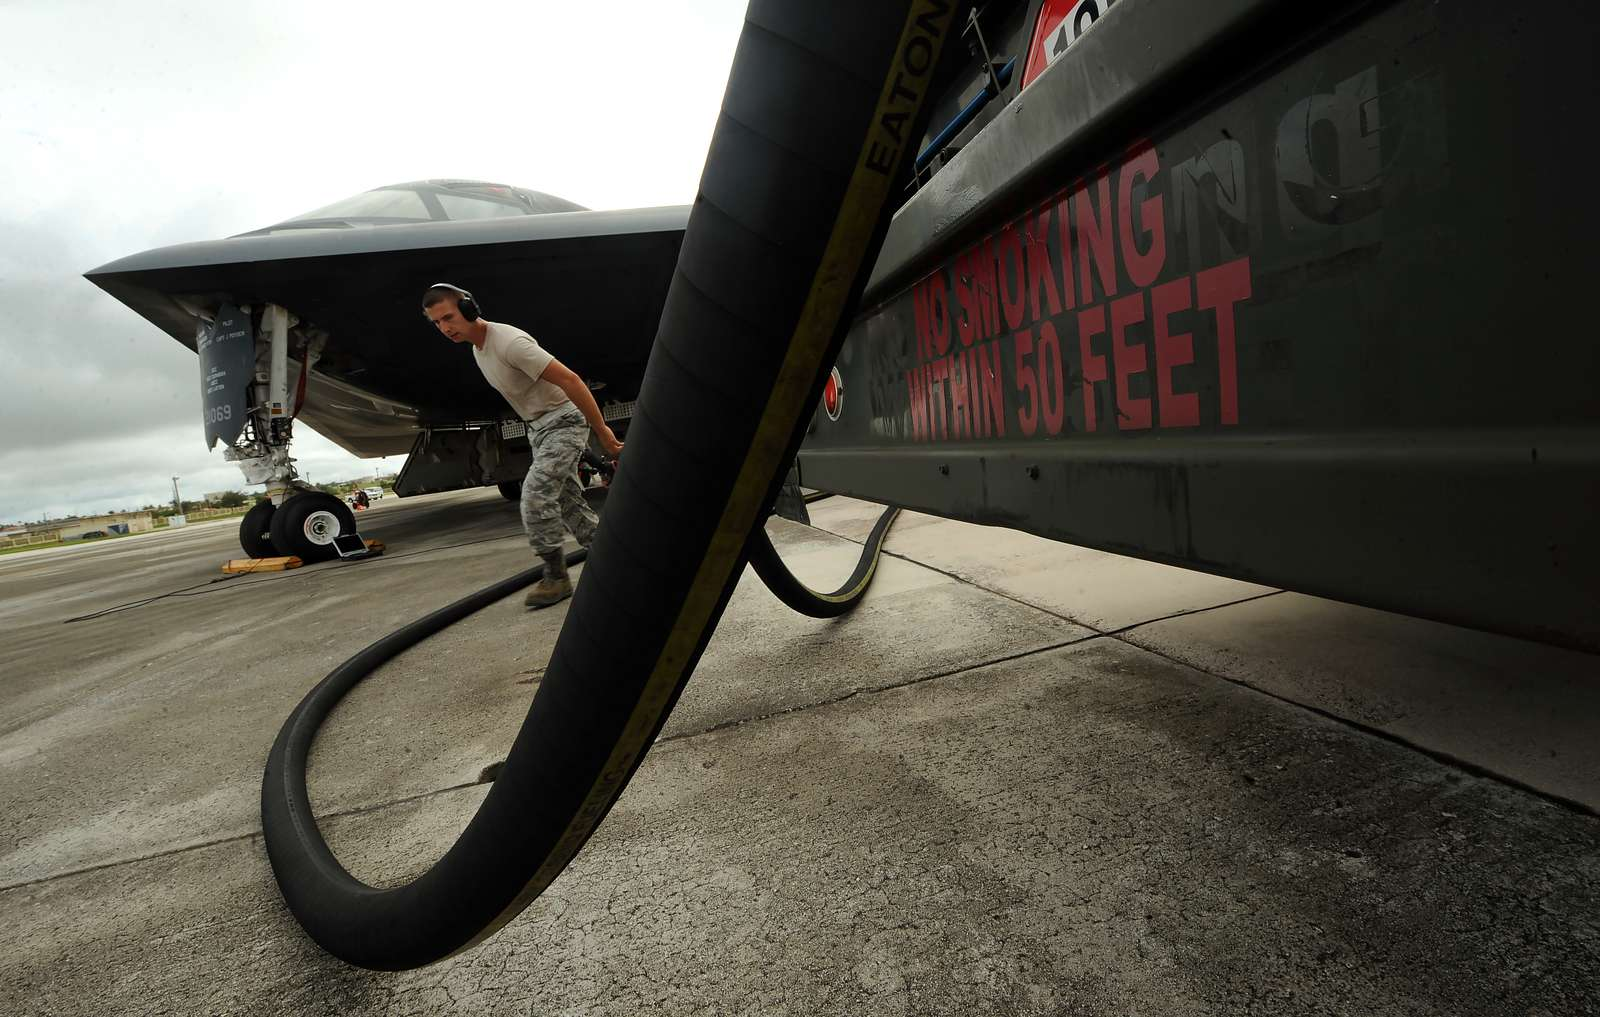B2: (80, 178, 694, 564)
